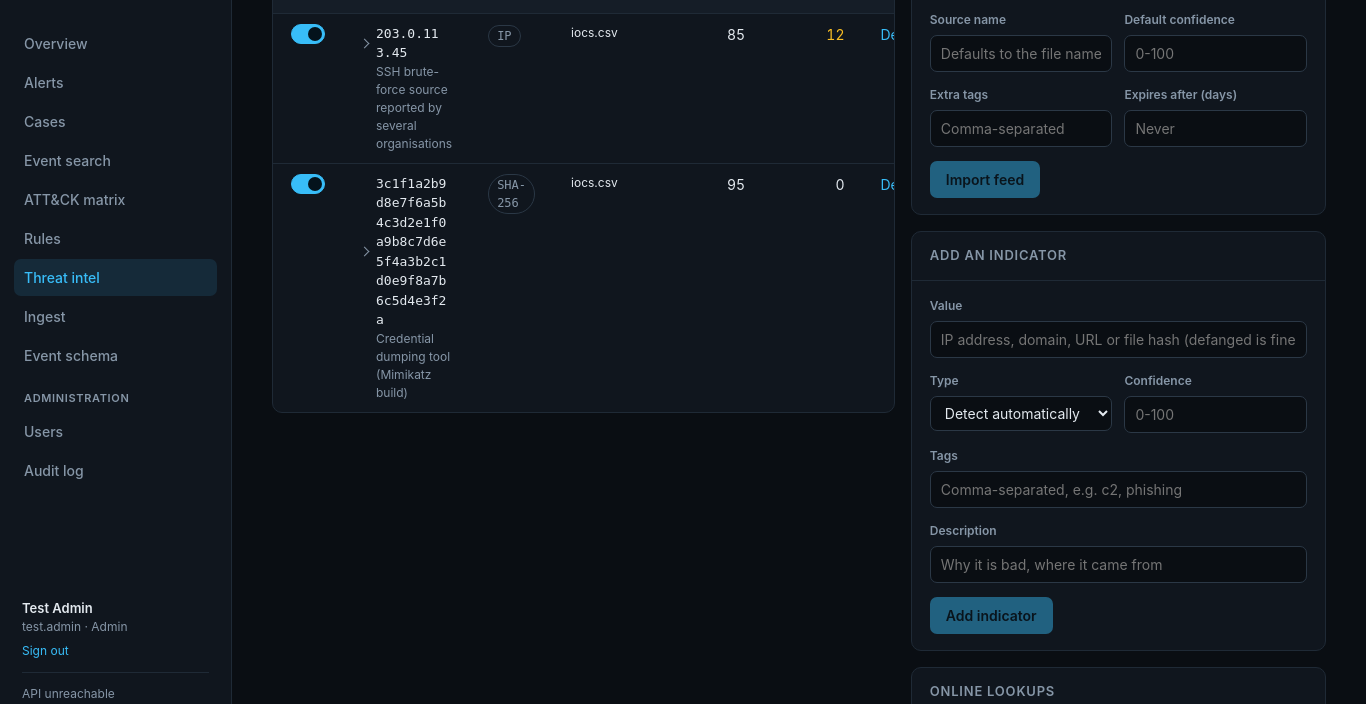
IntelPage › adds an indicator and shows validation errors
(page scrolled)
"[ [" types a literal "[" (a single one starts a key name).
Type "loader[ [.]example[ [.]org" into the field labelled "Value". click: (1118, 339)
box: [930,320,1307,358]
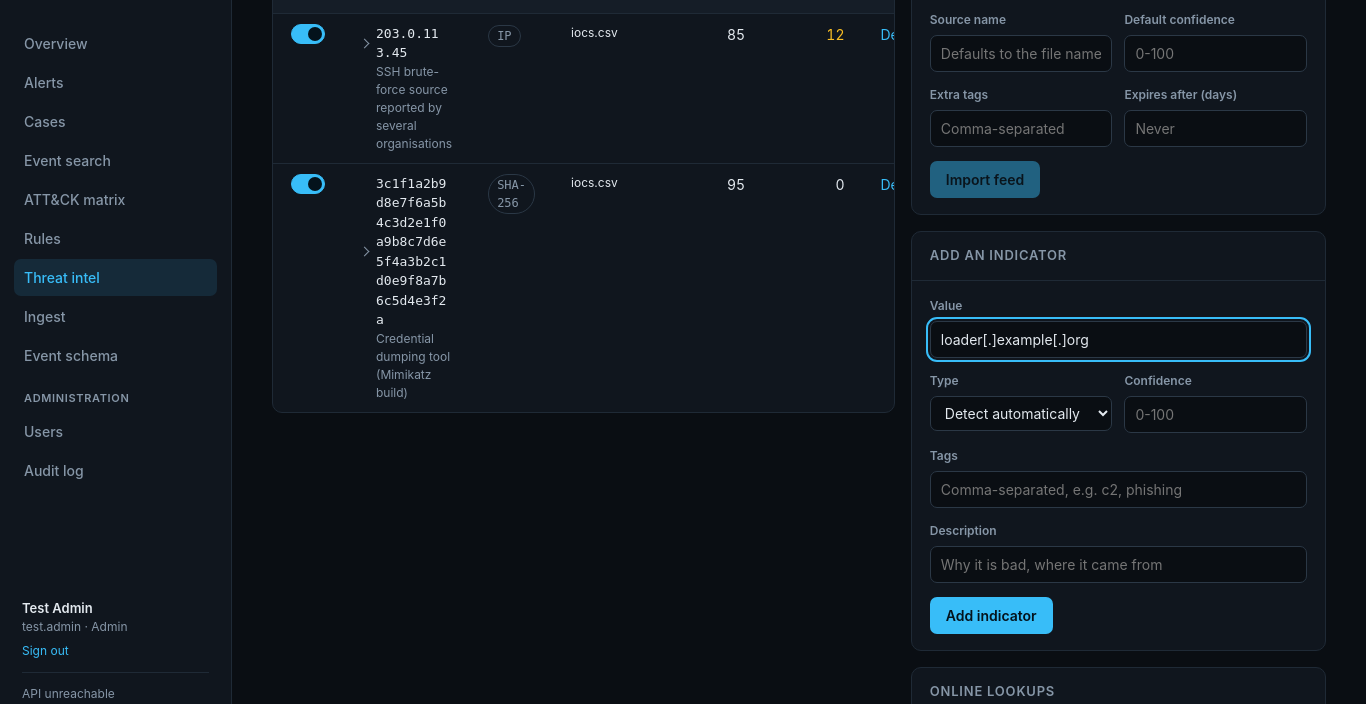
Type "c2, loader" into the field labelled "Tags". click: (1118, 489)
box: [930,470,1307,508]
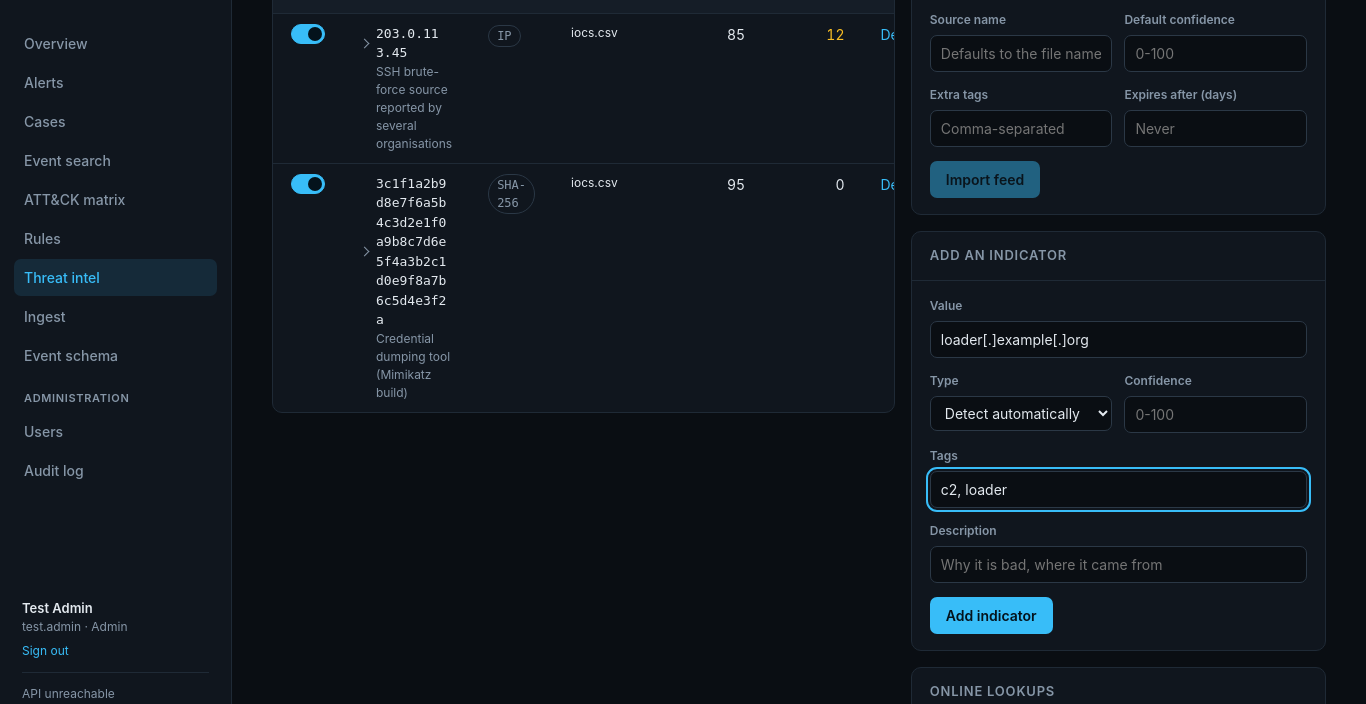
Type "90" into the number field labelled "Confidence". click: (1216, 414)
box: [1124,396,1307,432]
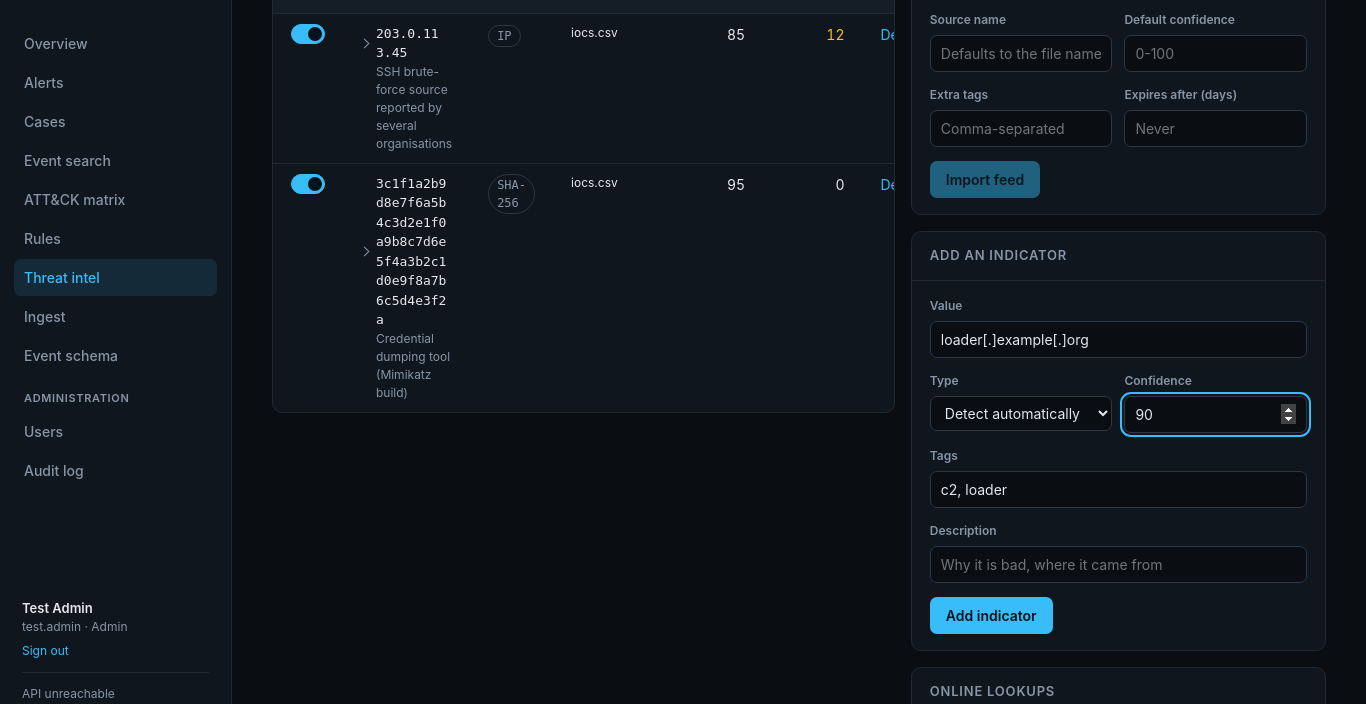
Click the button "Add indicator". click: (991, 615)
box: [930,596,1053,634]
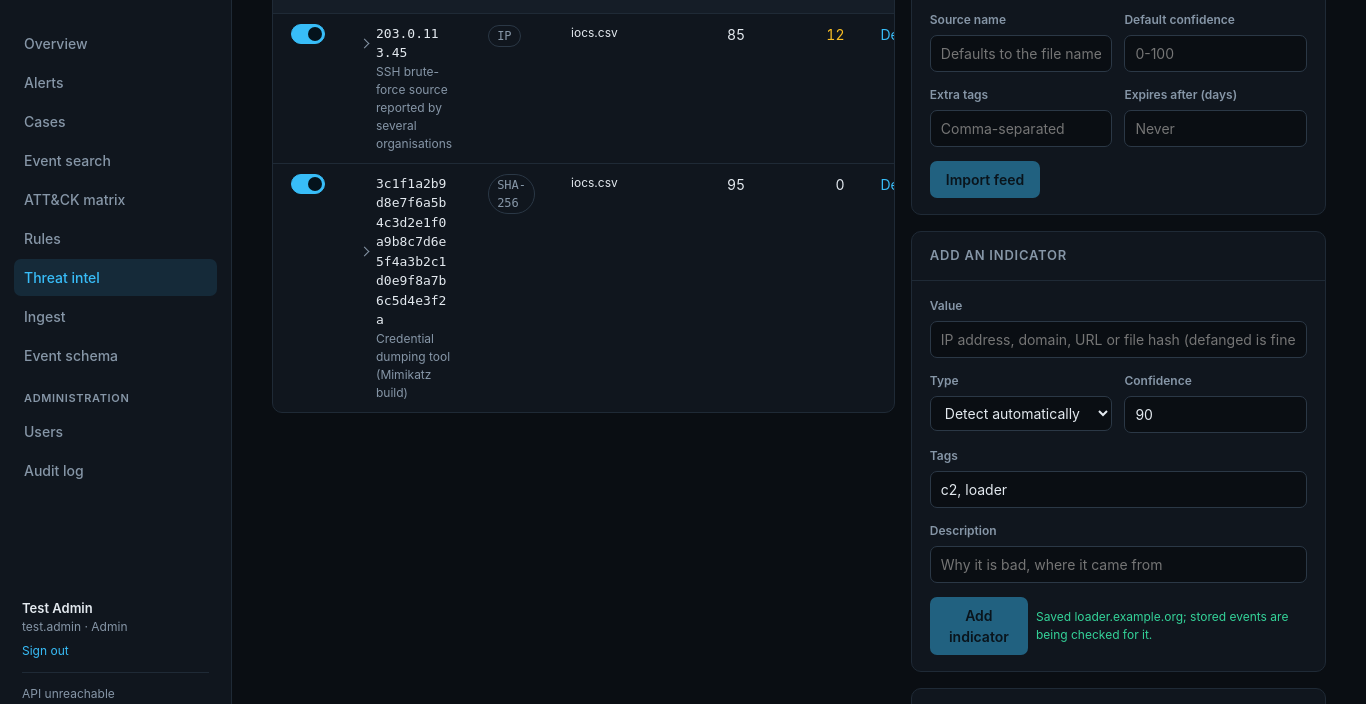
Expected: the message shows "Saved loader.example.org", [1036,608,1307,644]
Type "nope" into the field labelled "Value". click: (1118, 339)
box: [930,320,1307,358]
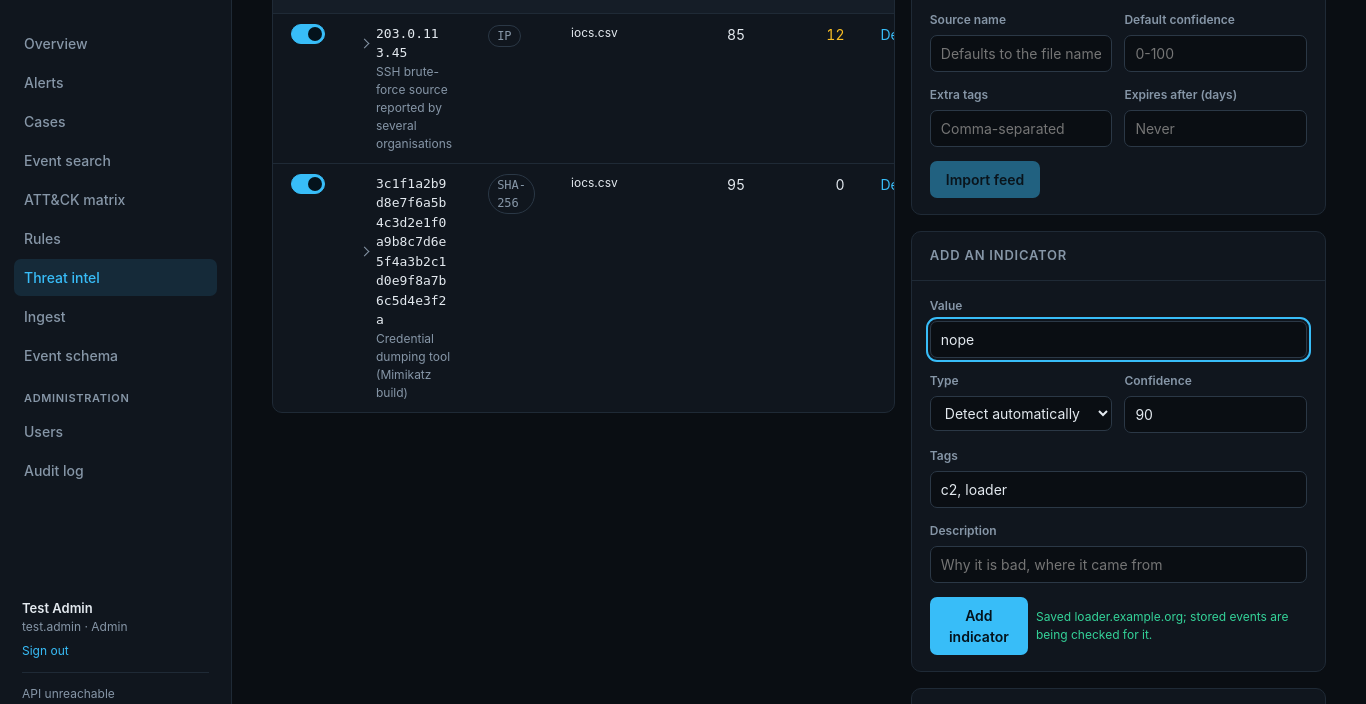
Click the button "Add indicator". click: (979, 626)
box: [930,596,1028,654]
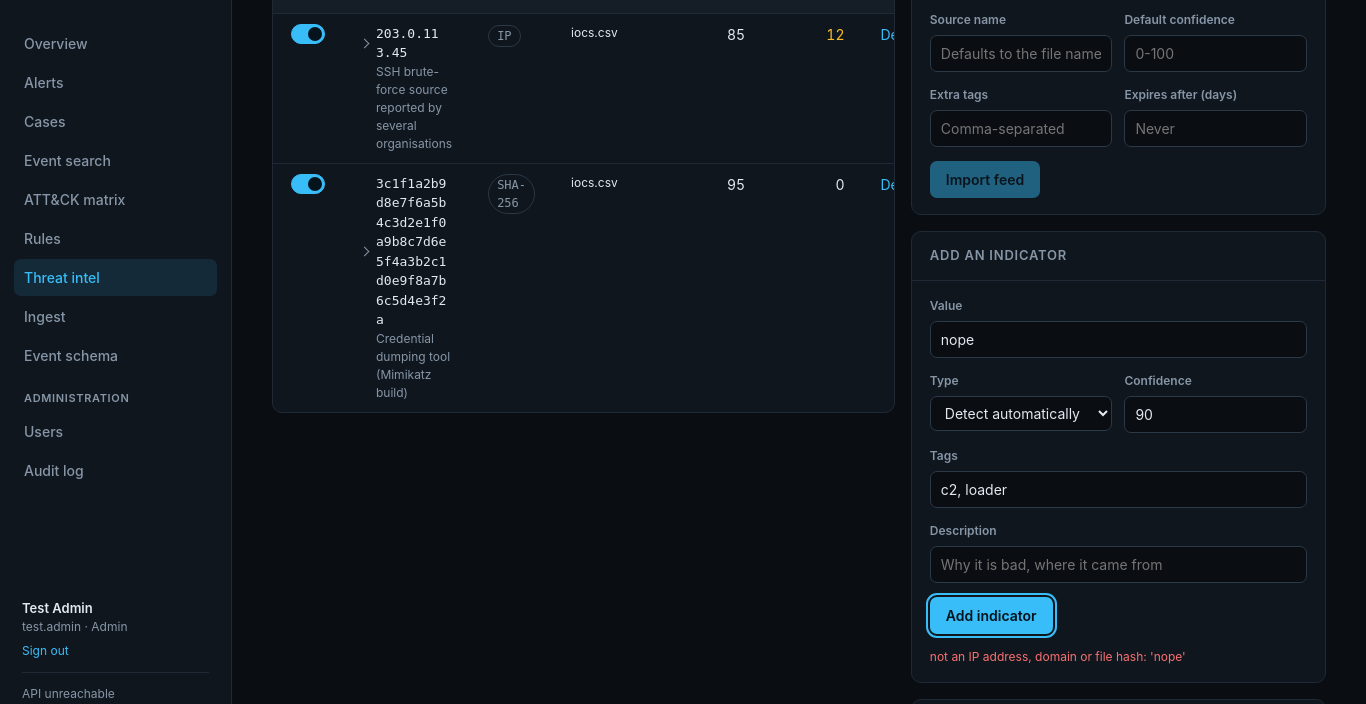
Expected: the message shows "not an IP address", [930,648,1186,664]
